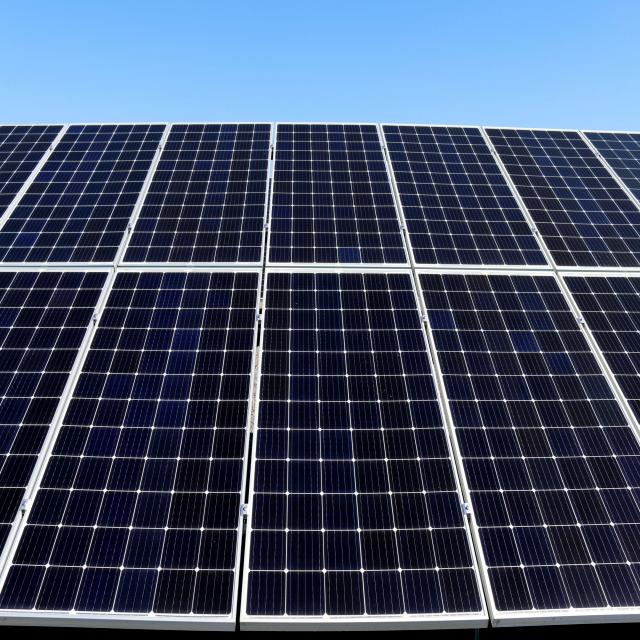crack: (230, 256, 490, 640), (22, 263, 264, 640), (403, 265, 640, 639), (366, 96, 555, 304), (122, 86, 288, 309), (248, 95, 412, 309), (477, 109, 640, 316)
